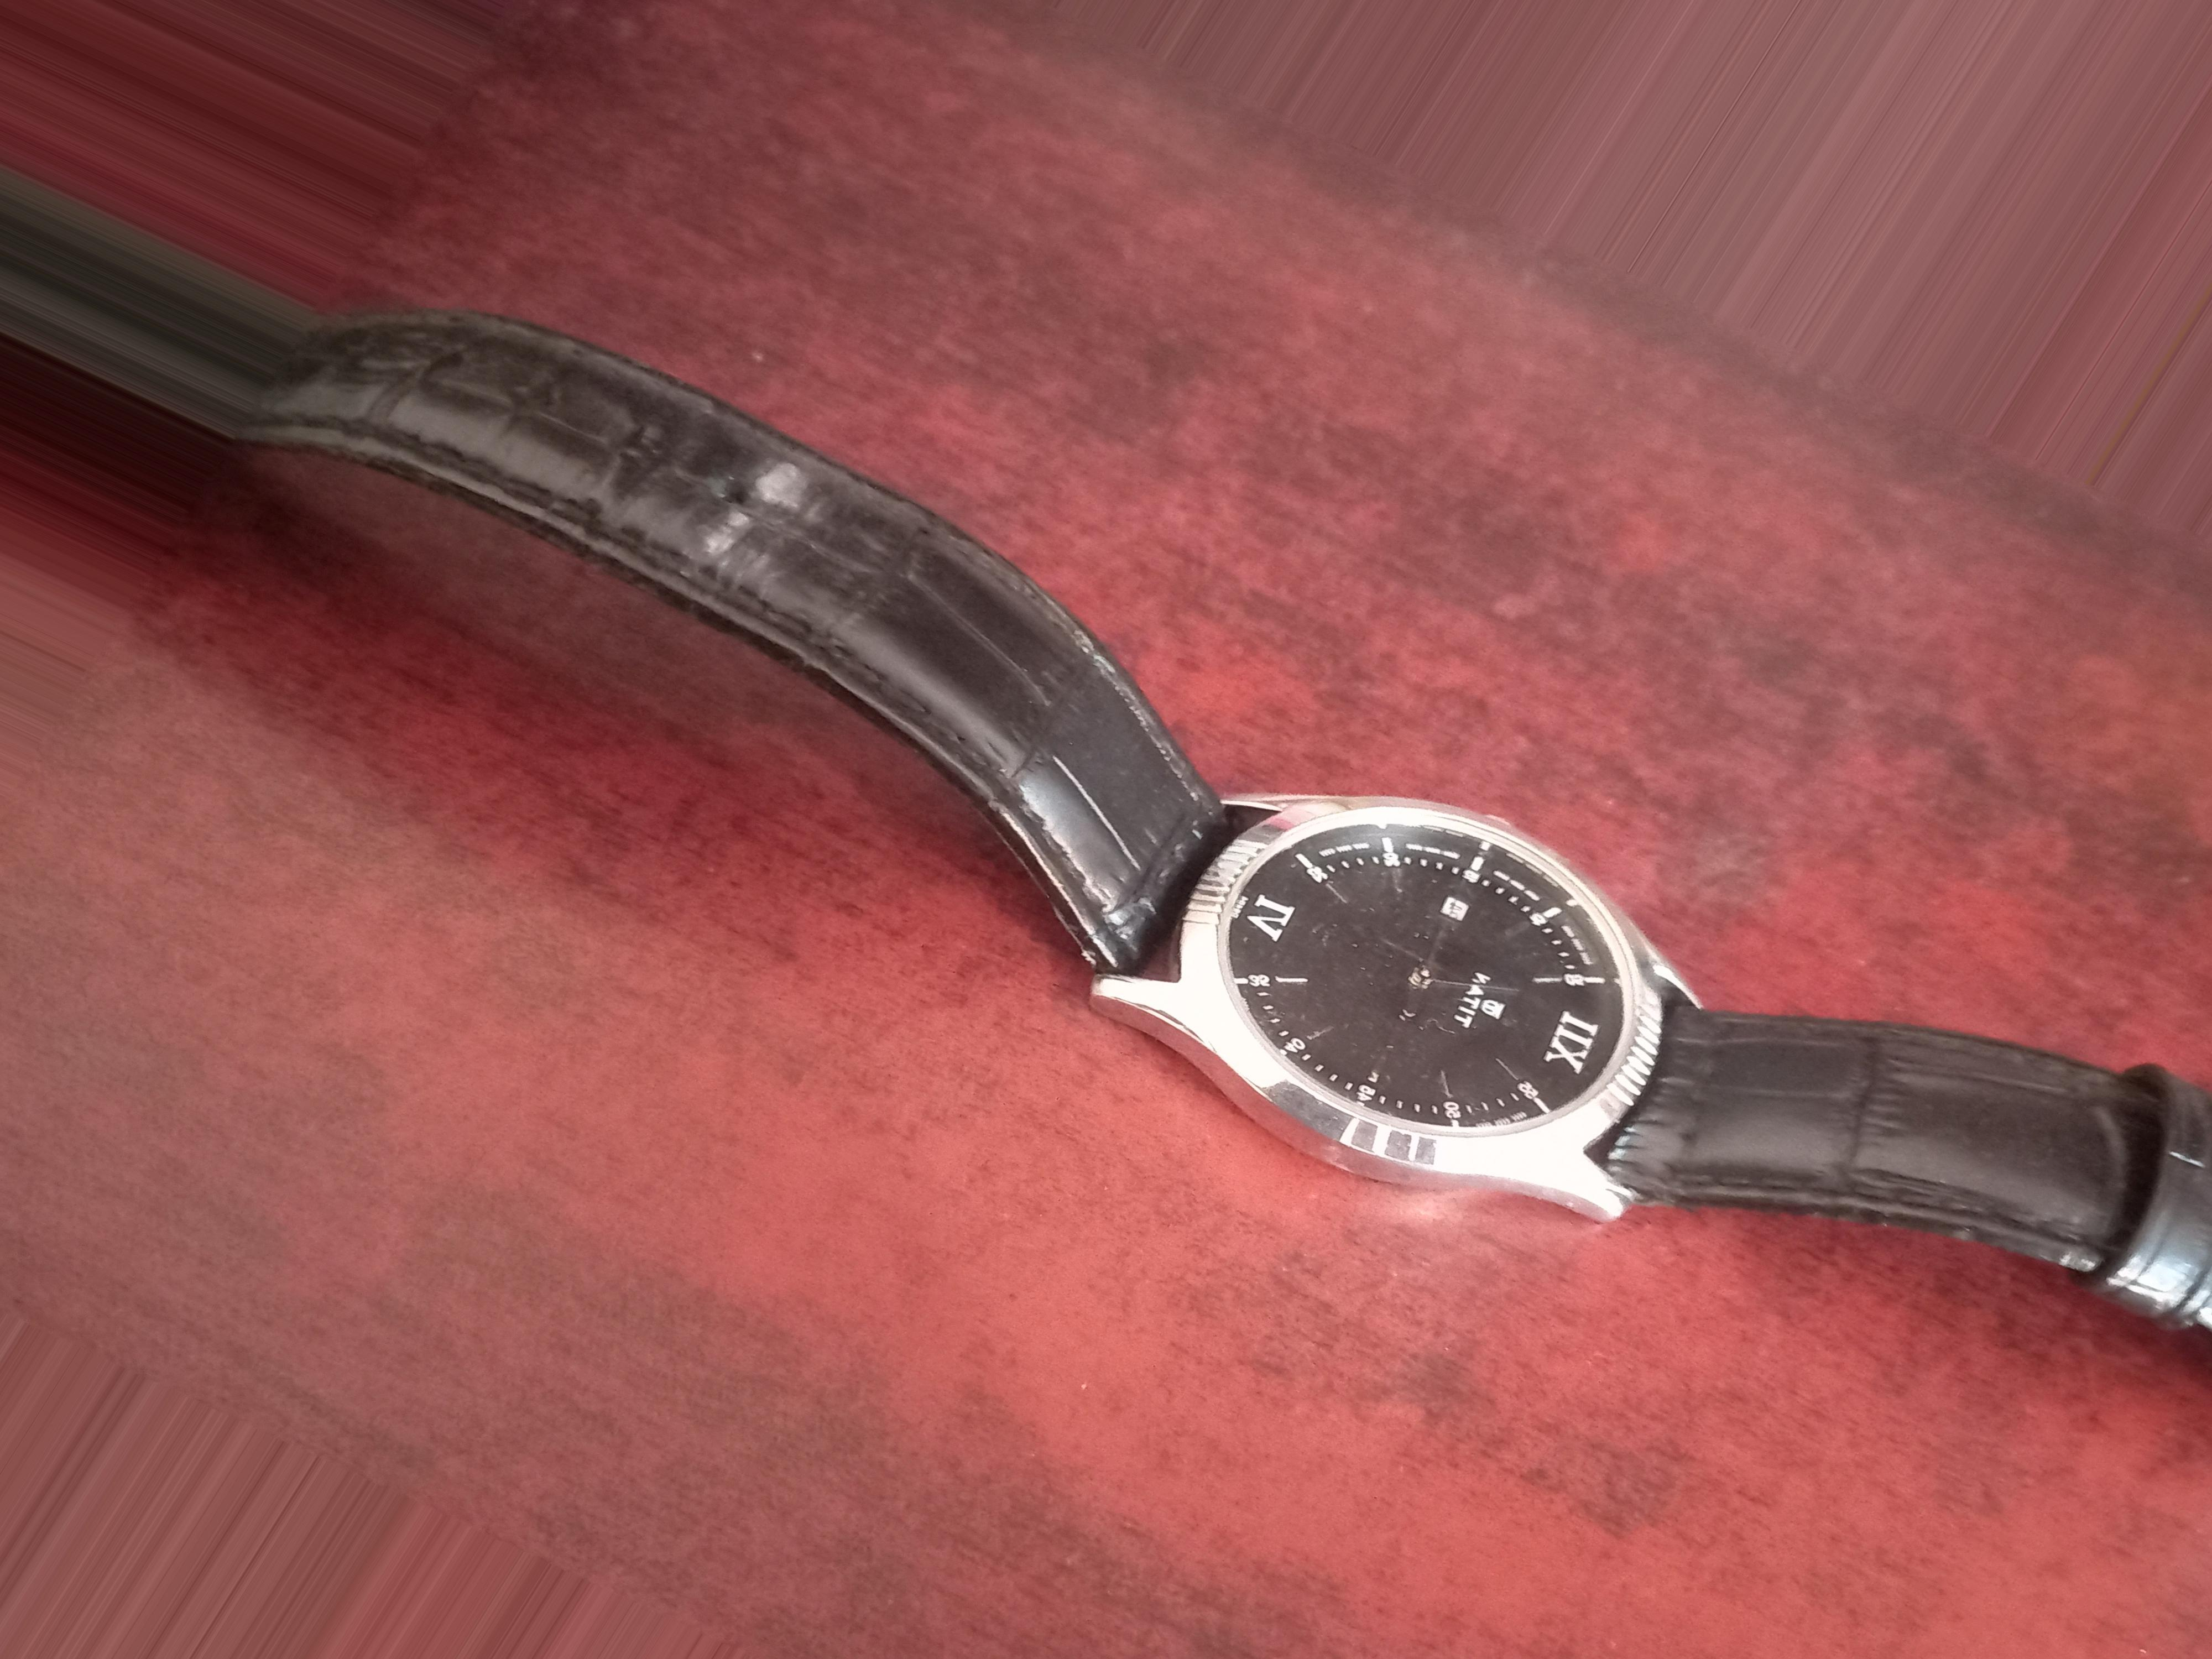watch: (0, 166, 2212, 1371)
